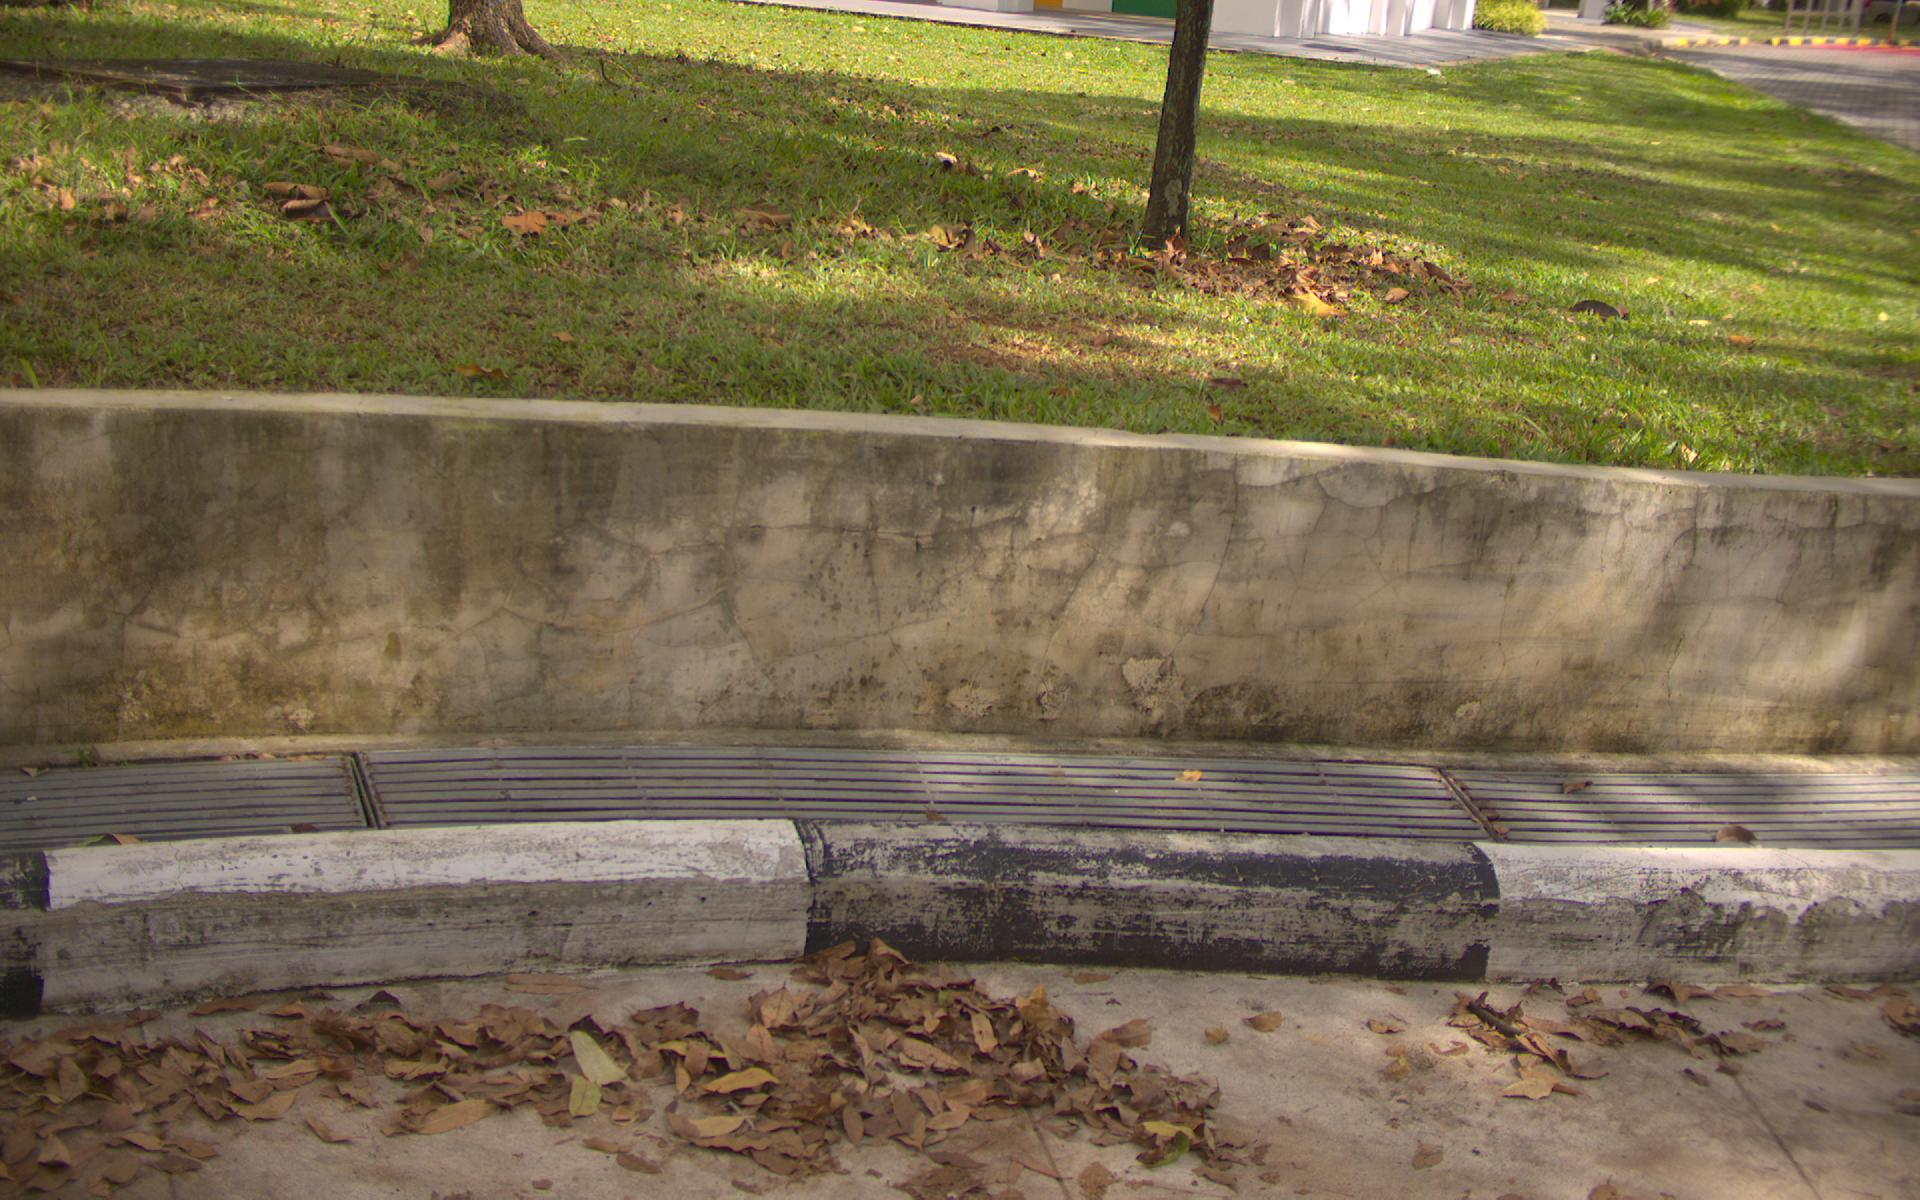curb_dic_low: (241, 729, 1919, 853)
road_curb_medium: (32, 988, 1908, 1200)
road_turf_low: (26, 79, 1754, 390)
